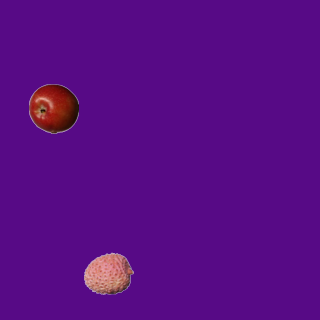Apple Braeburn: (28, 83, 78, 133)
Lychee: (83, 248, 133, 298)
